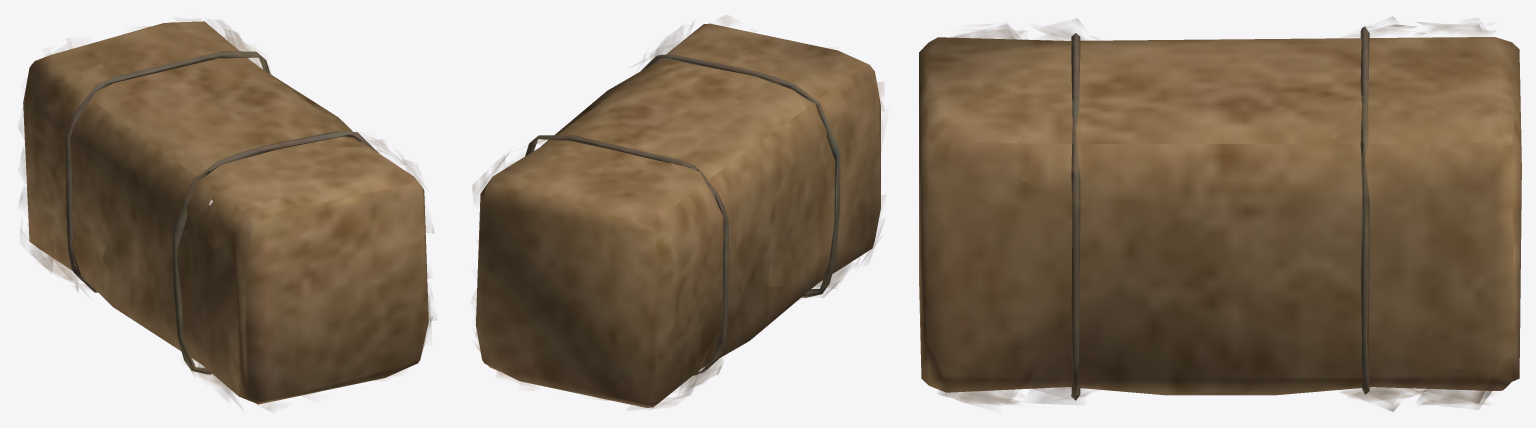
File: hay-bale.lod0.glb
The picture shows the model from 3 angles, left to right: view 1: azimuth 30°, elevation 25°; view 2: azimuth 150°, elevation 25°; view 3: azimuth 270°, elevation 25°; orthographic projection. The views are drawn at different scales.
Visible parts, largest first — view 1: Hay_bale_latest:Hay_Hay_bale_latest:Hay_bale1_0; view 2: Hay_bale_latest:Hay_Hay_bale_latest:Hay_bale1_0; view 3: Hay_bale_latest:Hay_Hay_bale_latest:Hay_bale1_0.
Part boxes in pixels (x1,y1,x2,y2): Hay_bale_latest:Hay_Hay_bale_latest:Hay_bale1_0: [19, 19, 434, 410]; Hay_bale_latest:Hay_Hay_bale_latest:Hay_bale1_0: [472, 15, 884, 409]; Hay_bale_latest:Hay_Hay_bale_latest:Hay_bale1_0: [919, 17, 1521, 411].
Size of the model in its own units: 0.848 by 0.842 by 1.49.
Materials: 1 (1 with a texture image).
